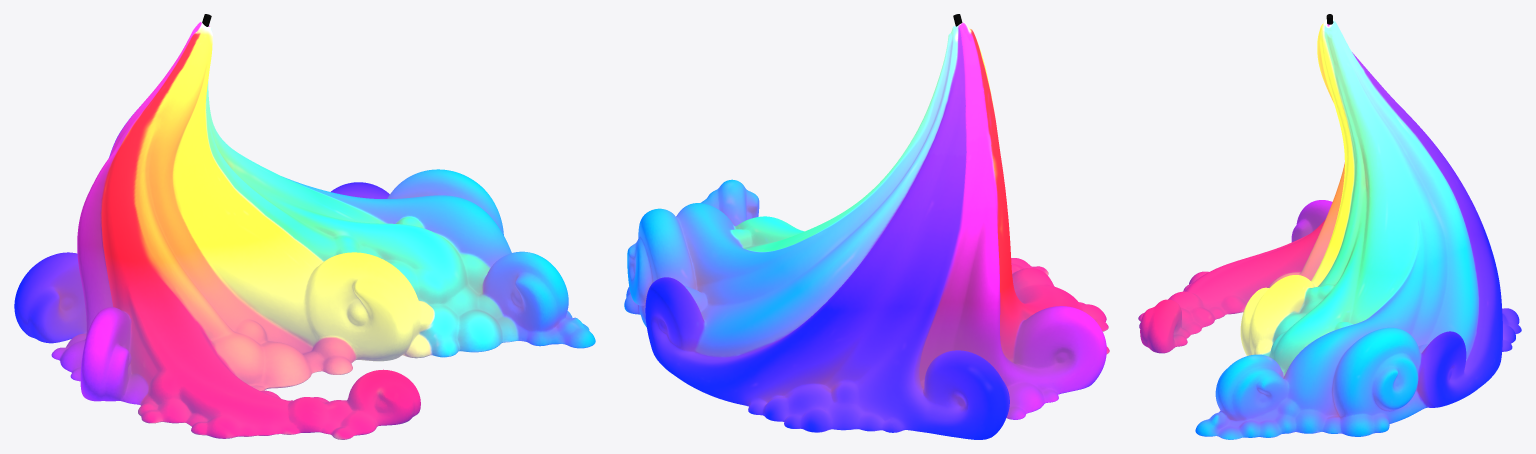
Rendered from smoke.glb.
3 views of the same model, side by side, from view 1: azimuth 30°, elevation 25°; view 2: azimuth 150°, elevation 25°; view 3: azimuth 270°, elevation 25° (orthographic). The views are drawn at different scales.
Parts seen in each view (by area): view 1: Smoke_mat.001, Smoke_mat, Smoke_mat.002; view 2: Smoke_mat, Smoke_mat.001, Smoke_mat.002; view 3: Smoke_mat.001, Smoke_mat, Smoke_mat.002.
Part boxes in pixels (x1,y1,x2,y2): Smoke_mat.001: (91,14,589,438); Smoke_mat: (14,39,470,439); Smoke_mat.002: (77,14,595,423); Smoke_mat: (624,38,1106,439); Smoke_mat.001: (624,14,1108,392); Smoke_mat.002: (685,14,1109,413); Smoke_mat.001: (1140,14,1495,439); Smoke_mat: (1138,49,1521,433); Smoke_mat.002: (1195,14,1512,436).
Size of the model in its own units: 143 by 104 by 123.
1 material, 1 textured.
